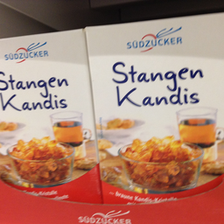tomato_sauce: (85, 11, 224, 206), (1, 29, 103, 203)
